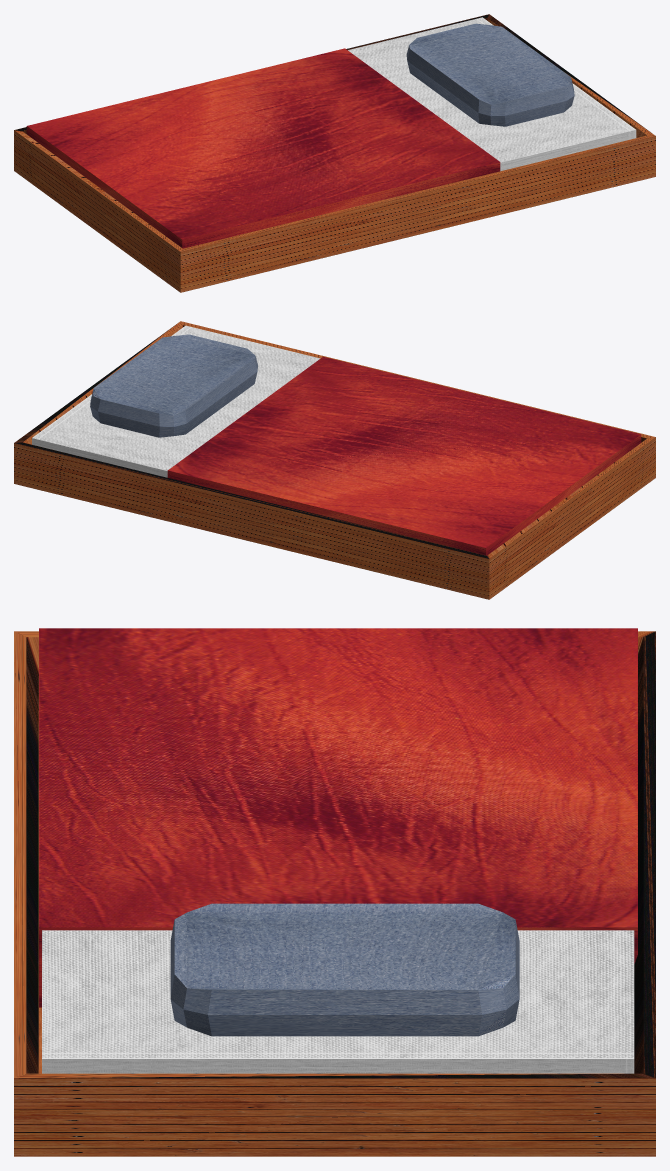
File: cama.FBX
3 renders of one model, top to bottom at view 1: azimuth 30°, elevation 25°; view 2: azimuth 150°, elevation 25°; view 3: azimuth 270°, elevation 25°, orthographic. The views are drawn at different scales.
Visible parts, largest first — view 1: Box004, Box001, Box003, Box002; view 2: Box004, Box001, Box003, Box002; view 3: Box004, Box001, Box002, Box003.
Part boxes in pixels (<box>): Box004: <box>26,48,500,248</box>; Box001: <box>14,14,655,292</box>; Box003: <box>406,23,574,126</box>; Box002: <box>348,17,636,171</box>; Box004: <box>167,356,641,555</box>; Box001: <box>14,321,655,599</box>; Box003: <box>90,334,257,437</box>; Box002: <box>32,325,320,477</box>; Box004: <box>39,628,637,1007</box>; Box001: <box>14,631,655,1156</box>; Box002: <box>42,930,634,1073</box>; Box003: <box>170,903,519,1036</box>.
Bounding box in the file's own units: 86.12 × 12.15 × 52.28.
Materials: 4 (4 with a texture image).
